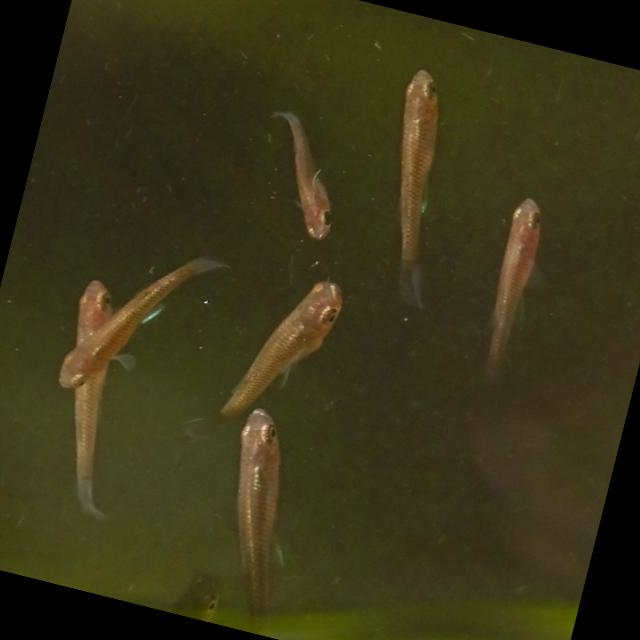Sivrisinek Baligi: (46, 219, 234, 428), (347, 62, 477, 308), (204, 262, 350, 457), (194, 394, 314, 624), (463, 190, 561, 387), (237, 102, 360, 246)
